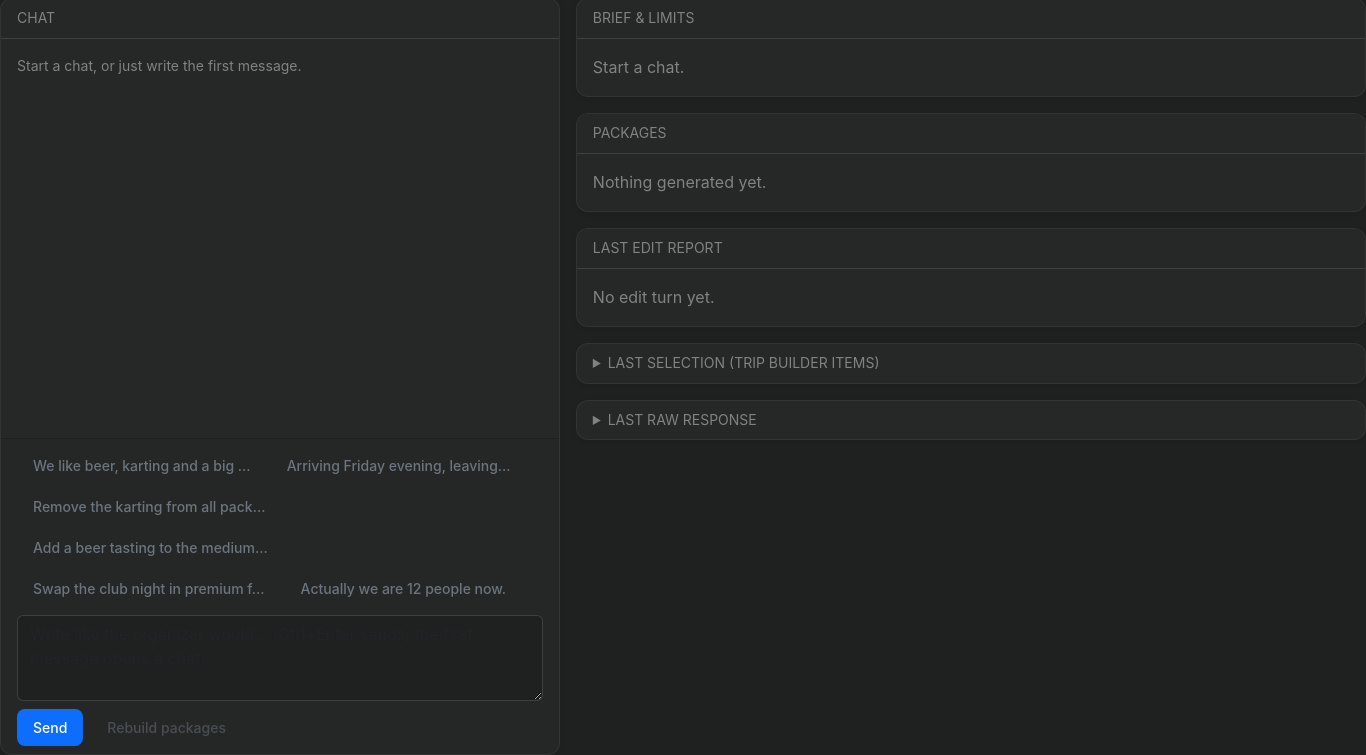
Test: an item's extras are listed with their amount, and the edit report names the extra it added
The width and height of the screenshot is (1366, 755).
(page scrolled)
Type "add the private show to the pub crawl" into the text box labelled "message" at (280, 658), box [17,615,543,701]
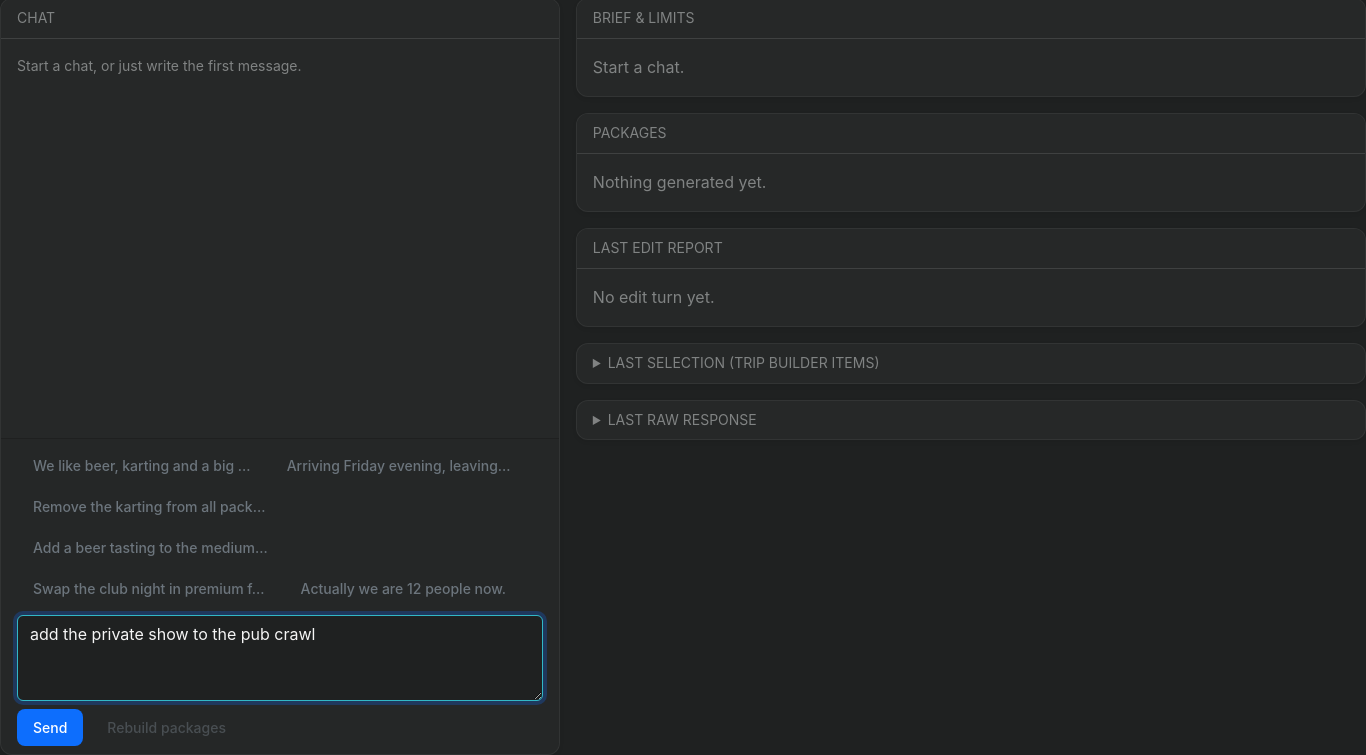
Click the button "Send" at (50, 727), box [17,709,83,746]
(page scrolled)
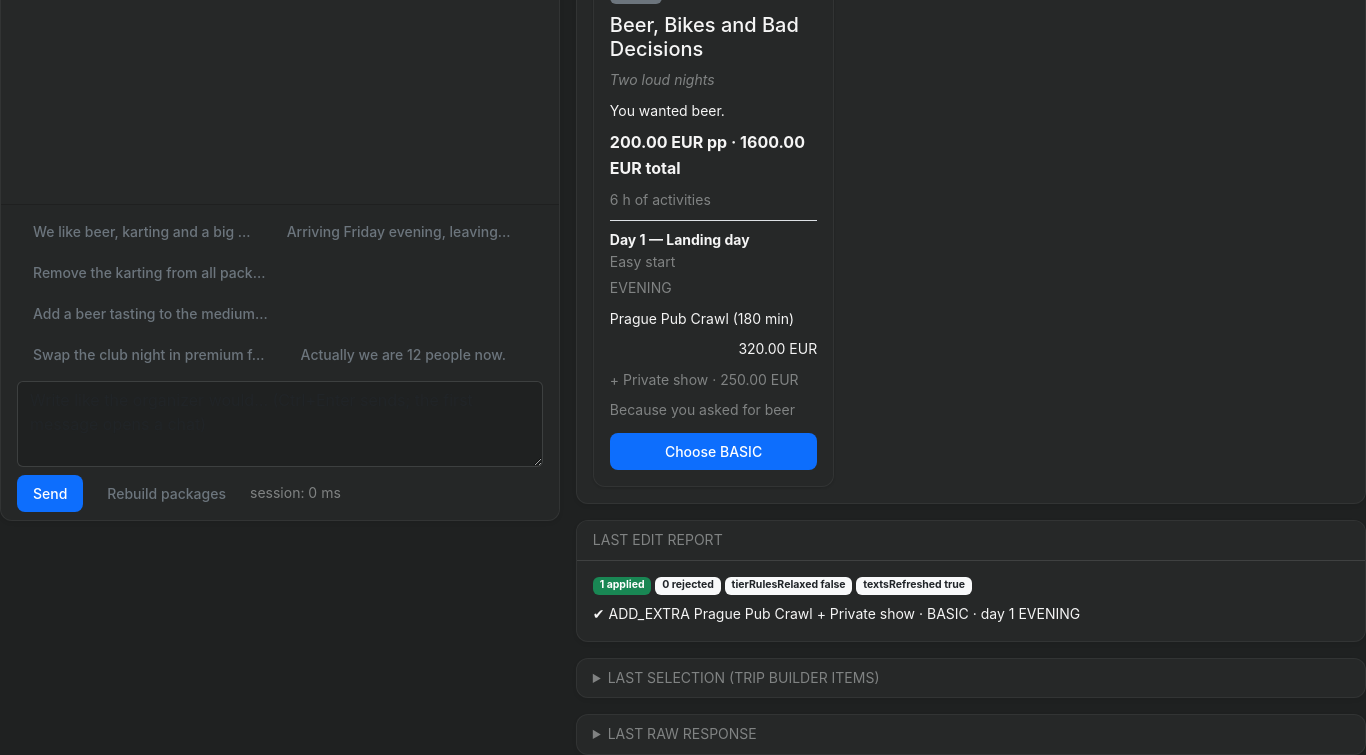
Now the text "+ Private show · 250.00 EUR" is shown, box [610,369,817,391]
Now the text "ADD_EXTRA Prague Pub Crawl + Private show · BASIC" is shown, box [593,605,1080,622]
